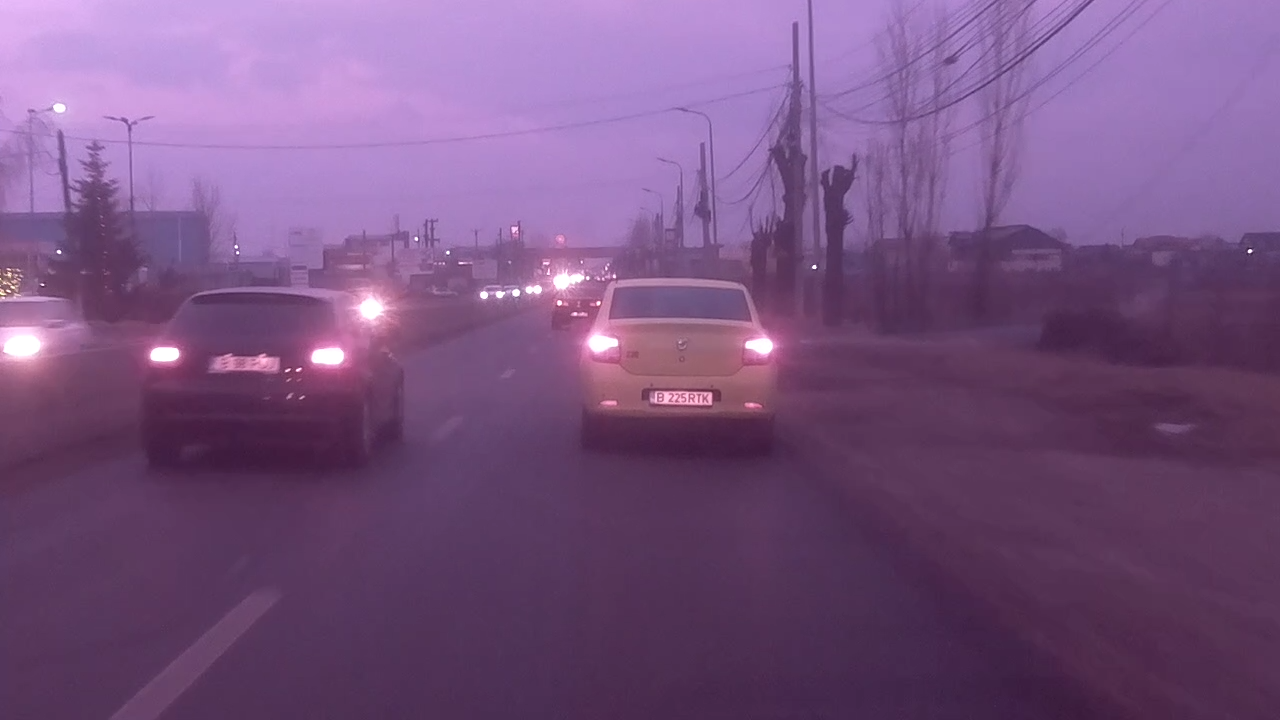license-plate: (644, 388, 715, 408)
